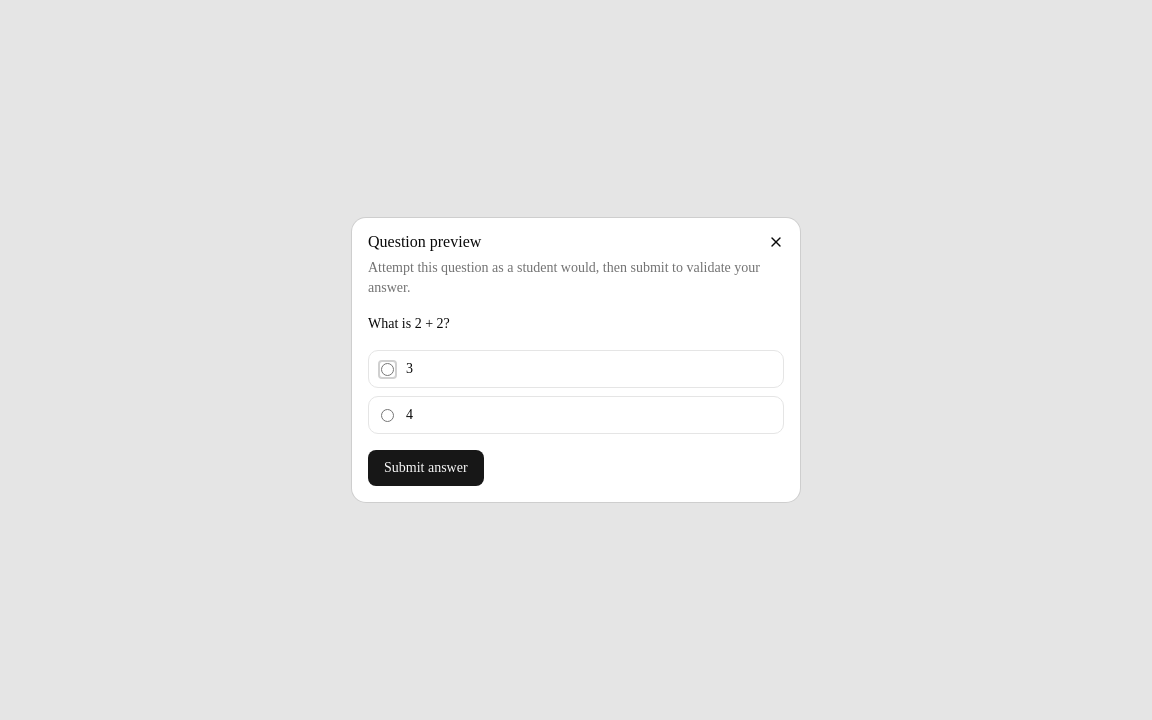
Test: QuestionPreviewDialog › requires a selected answer before submit
The width and height of the screenshot is (1152, 720).
Click the button "Submit answer": x=426, y=468 [368,450,484,486]
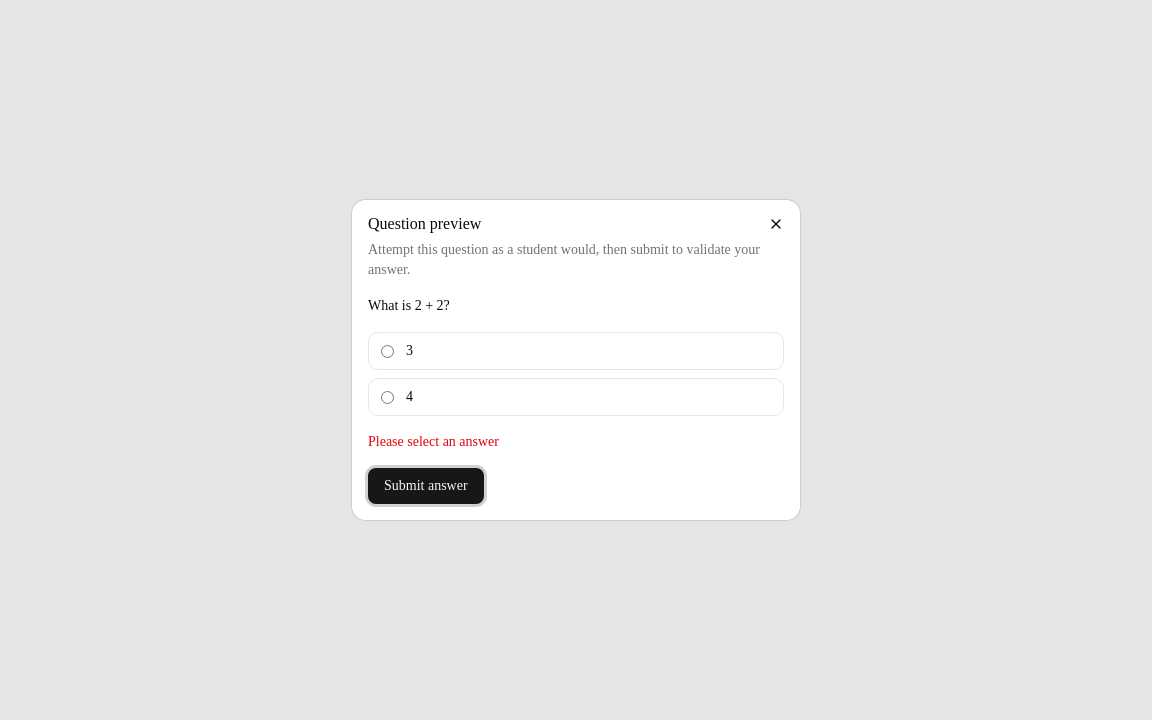
Expected: the text "Please select an answer" is shown, [368,434,499,449]
